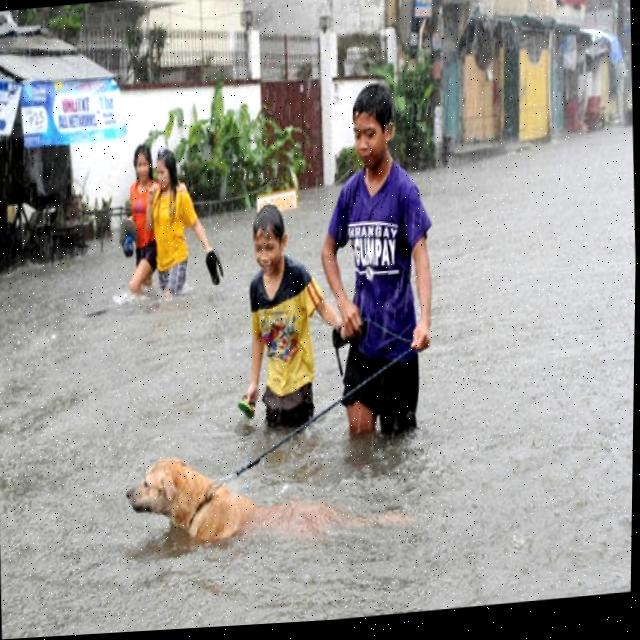civilian: (327, 74, 455, 445), (214, 193, 329, 443), (145, 147, 198, 301), (113, 138, 160, 303)
dog: (114, 439, 389, 582)
